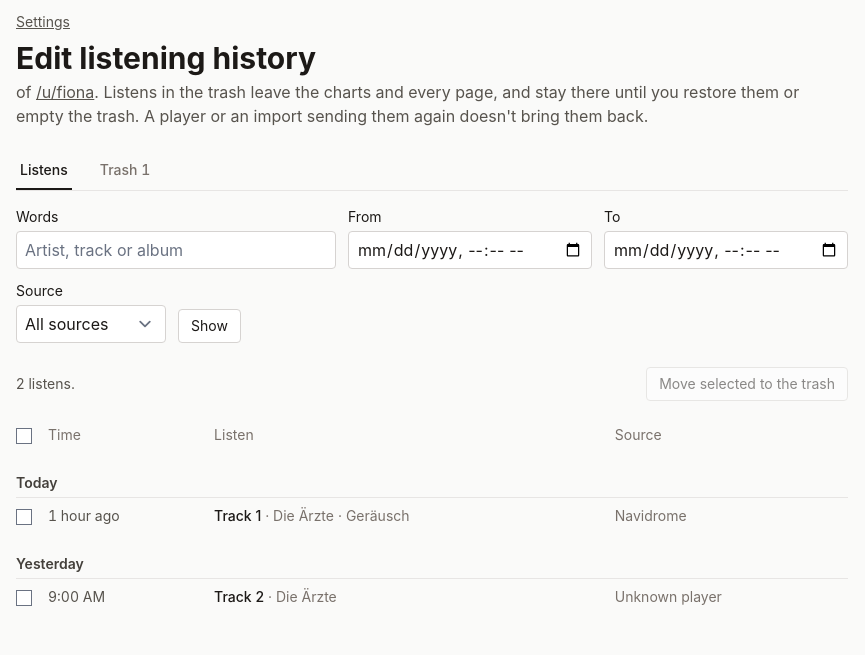
Scenario: listening history › moves selected listens to the trash and takes it back
This screenshot has width=865, height=655.
Expected: the button "Move selected to the trash" is disabled, [646, 367, 848, 401]
Click the checkbox named "Track 1" at point(24, 517), box [16, 509, 32, 525]
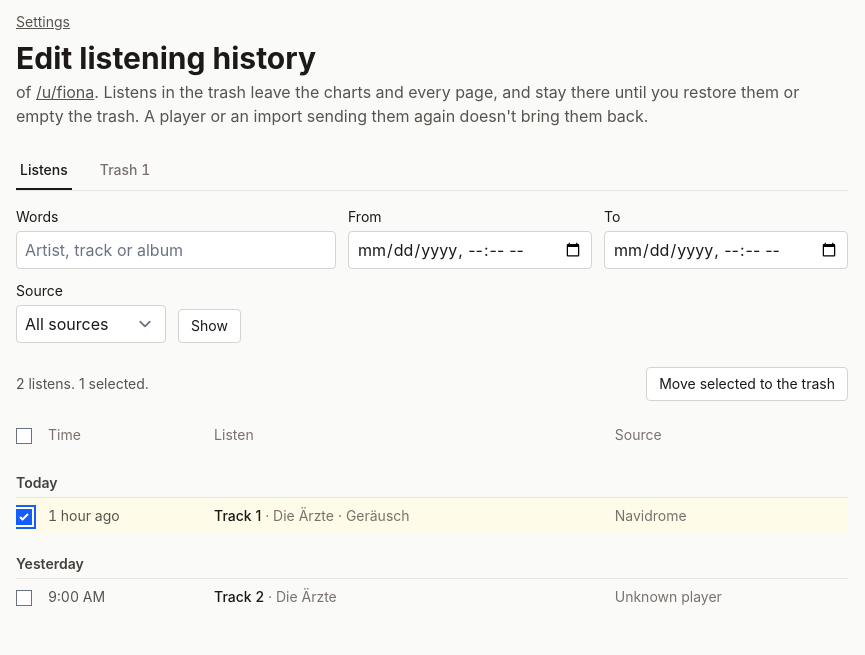
Expected: the text "2 listens. 1 selected." is shown, [16, 374, 149, 394]
Click the button "Move selected to the trash" at point(747, 384), box [646, 367, 848, 401]
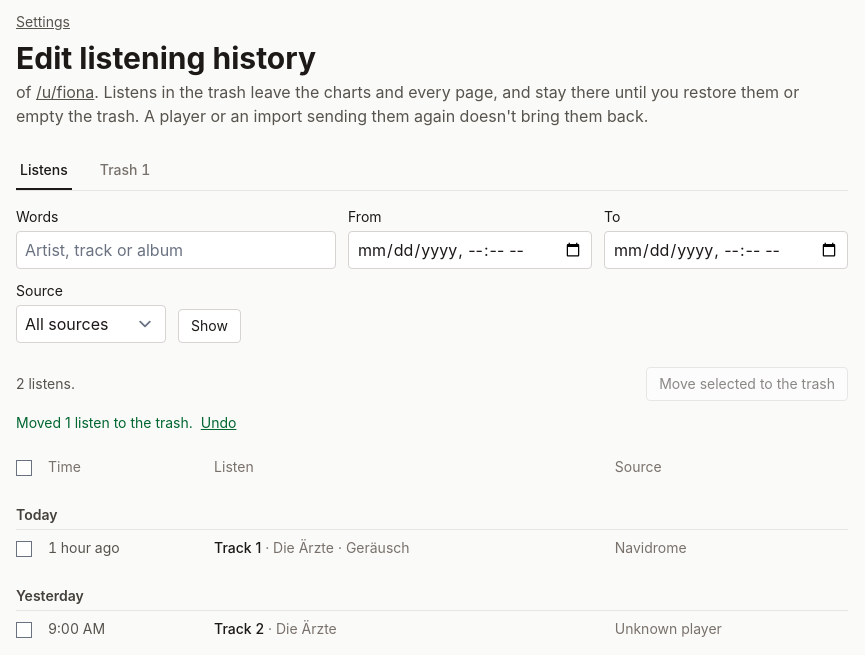
Expected: the message shows "Moved 1 listen to the trash.", [16, 414, 197, 431]
Click the button "Undo" at point(219, 423), box [201, 413, 236, 433]
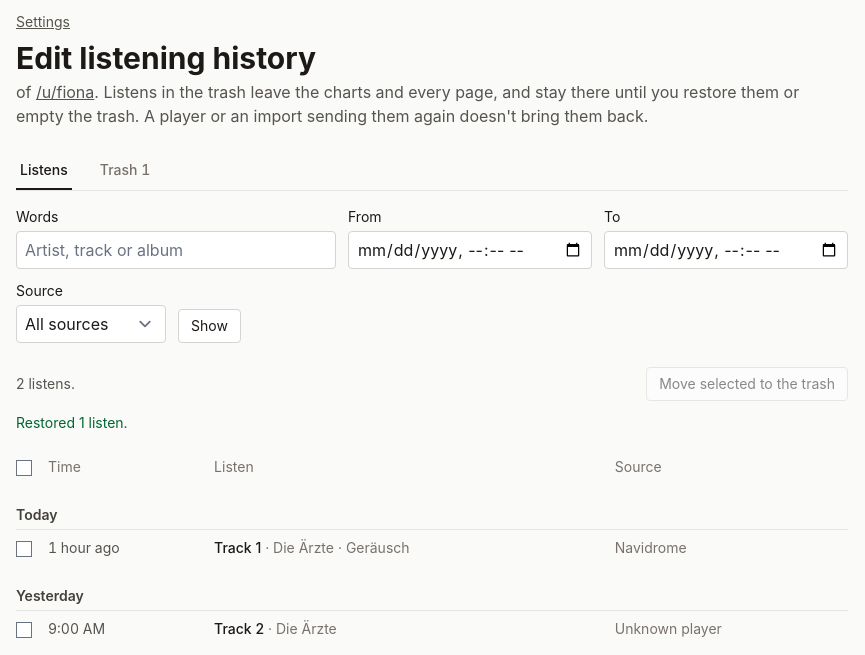
Expected: the message reads "Restored 1 listen.", [16, 414, 128, 431]
